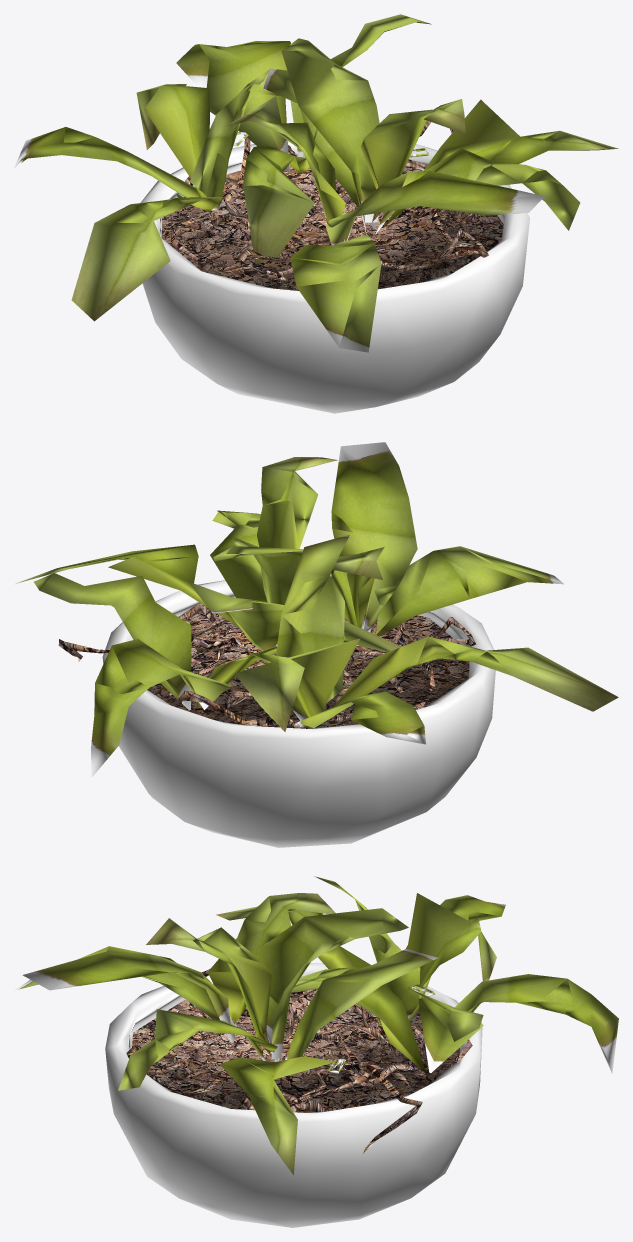
Rendered from plant2.glb.
The picture shows the model from 3 angles, top to bottom: view 1: azimuth 30°, elevation 25°; view 2: azimuth 150°, elevation 25°; view 3: azimuth 270°, elevation 25°; orthographic projection. The views are drawn at different scales.
Visible parts, largest first — view 1: designconnected_plant_Orchid_pink_obj; view 2: designconnected_plant_Orchid_pink_obj; view 3: designconnected_plant_Orchid_pink_obj.
Part boxes in pixels (x1,y1,x2,y2): designconnected_plant_Orchid_pink_obj: (14, 14, 618, 413); designconnected_plant_Orchid_pink_obj: (16, 442, 618, 847); designconnected_plant_Orchid_pink_obj: (14, 876, 618, 1227).
Bounding box in the file's own units: 0.396 × 0.1919 × 0.3811.
Materials: 3 (2 with a texture image).
